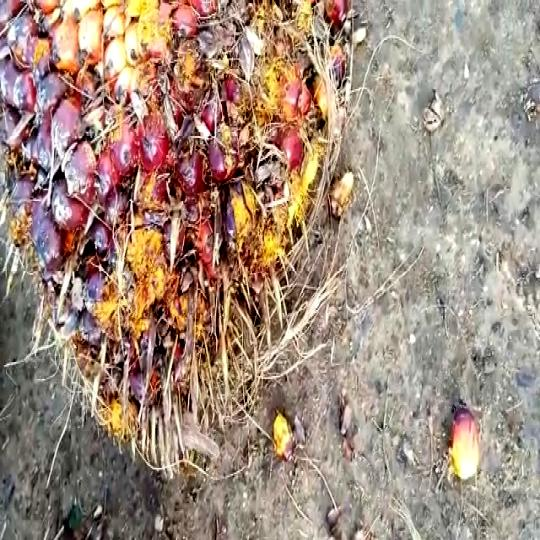masak: (0, 7, 370, 483)
